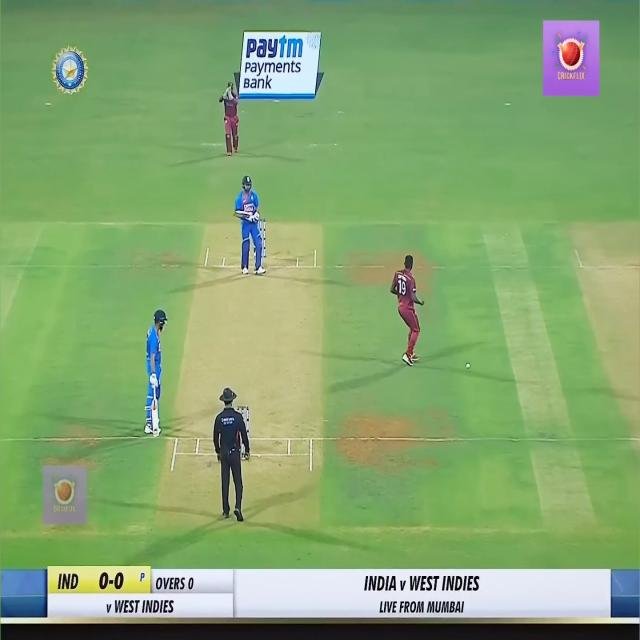fully_visible: (242, 30, 312, 65)
